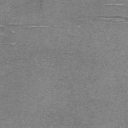finishing roll printing: (8, 22, 52, 29), (98, 14, 128, 22), (104, 2, 128, 6), (10, 42, 18, 46), (0, 24, 5, 28), (12, 30, 16, 34)
